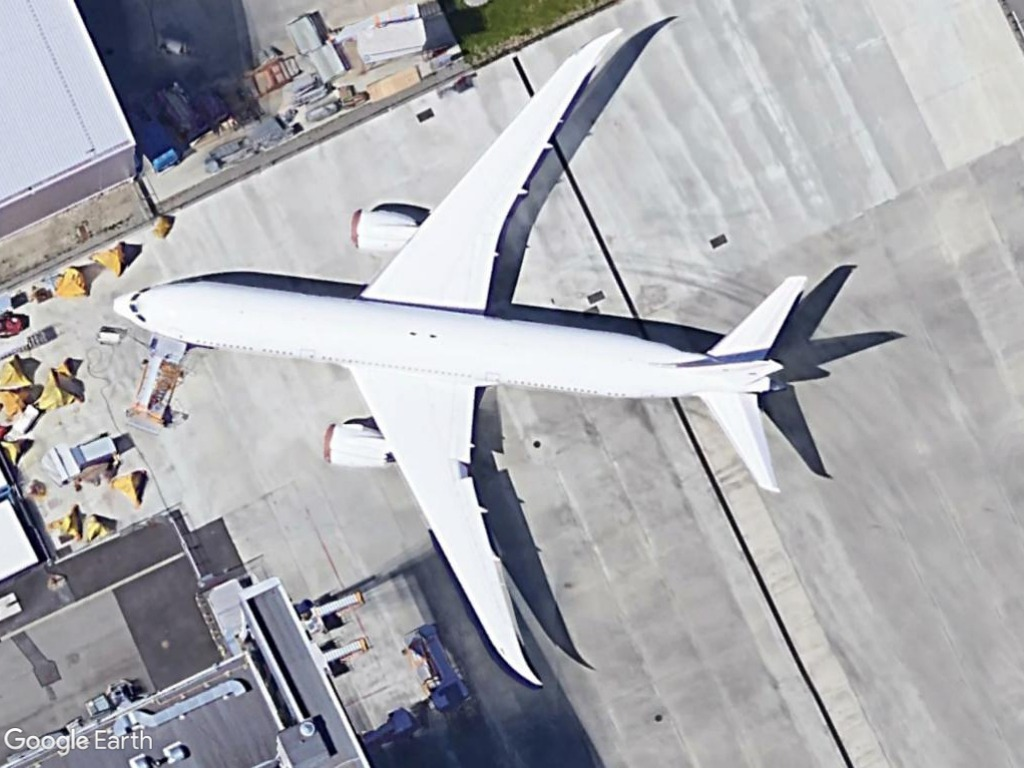airliner: (106, 21, 809, 696)
